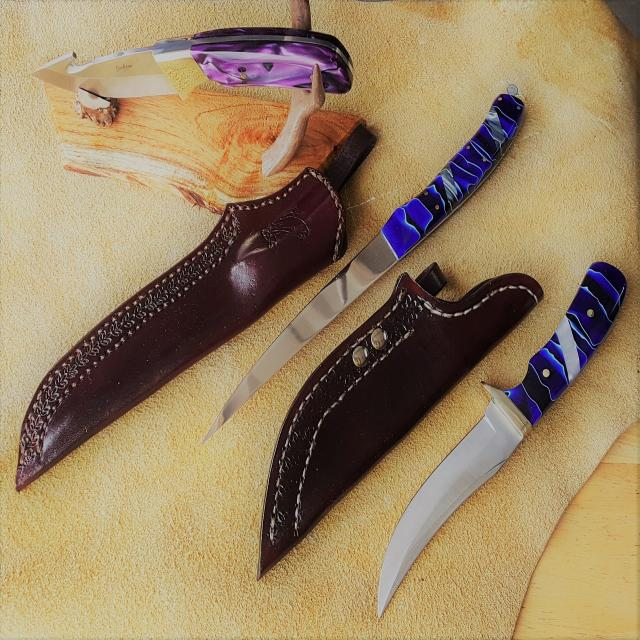knife: (201, 95, 526, 441), (376, 258, 628, 623)
